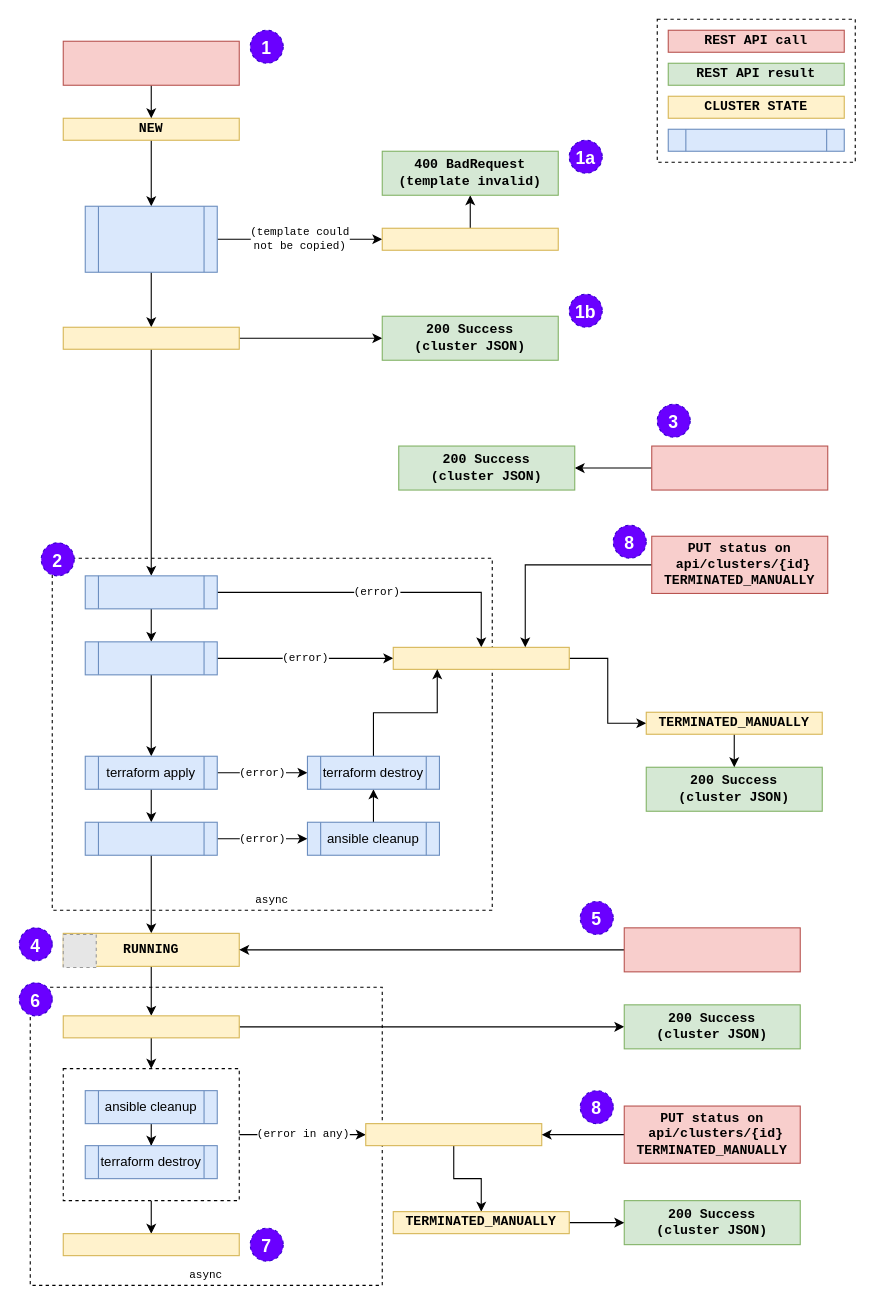
Image size: 875x1305. Some labels were removed from this diagram. Grey dashed boxes stand in for pictures. The centre of each missing label's shape, as x and y in pixels:
(NOT EXISTING): pixel 469 238
Action: pixel 755 139
ansible launch: pixel 150 838
Create working directory and copy the template: pixel 150 238
DELETE api/clusters/{id}: pixel 711 949
GET api/clusters/{id}: pixel 739 467
LAUNCH_FAILED: pixel 480 657
LAUNCHING: pixel 150 337
POST api/clusters: pixel 150 62
TERMINATED: pixel 150 1244
TERMINATING: pixel 150 1026
TERMINATION_FAILED: pixel 453 1134
terraform init: pixel 150 592
terraform plan: pixel 150 658
